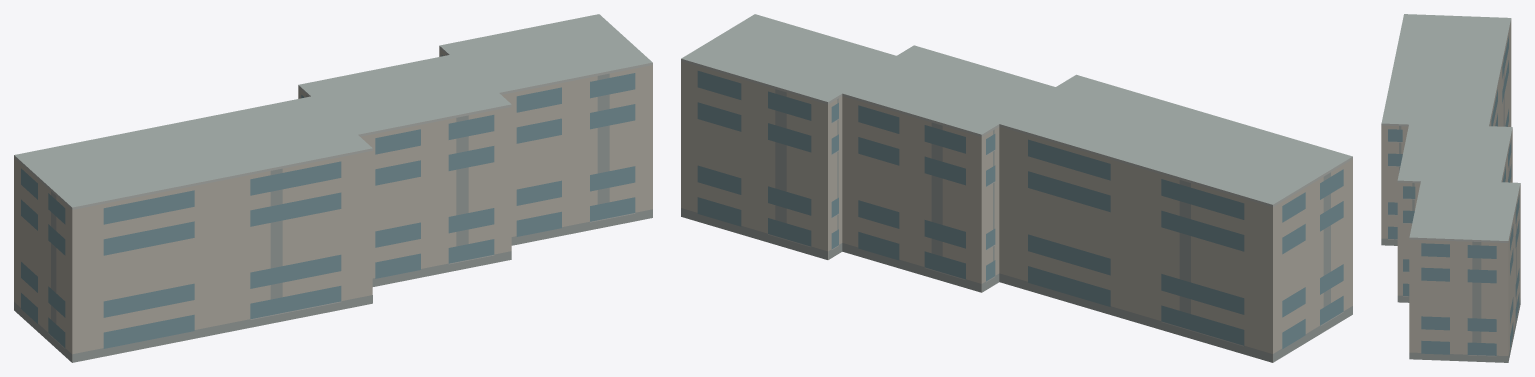
Rendered from residential-64a5bc8e-dd6c-41c2-9f8f-03153449b2cf.glb.
The picture shows the model from 3 angles, left to right: view 1: azimuth 30°, elevation 25°; view 2: azimuth 150°, elevation 25°; view 3: azimuth 270°, elevation 25°; orthographic projection. The views are drawn at different scales.
Parts seen in each view (by area): view 1: residential-64a5bc8e-dd6c-41c2-9f8f-03153449b2cf.tmp; view 2: residential-64a5bc8e-dd6c-41c2-9f8f-03153449b2cf.tmp; view 3: residential-64a5bc8e-dd6c-41c2-9f8f-03153449b2cf.tmp.
Part boxes in pixels (x1,y1,x2,y2): residential-64a5bc8e-dd6c-41c2-9f8f-03153449b2cf.tmp: (14,14,652,362); residential-64a5bc8e-dd6c-41c2-9f8f-03153449b2cf.tmp: (681,14,1352,362); residential-64a5bc8e-dd6c-41c2-9f8f-03153449b2cf.tmp: (1381,14,1520,362).
Bounding box in the file's own units: 60.99 × 15.25 × 15.79.
